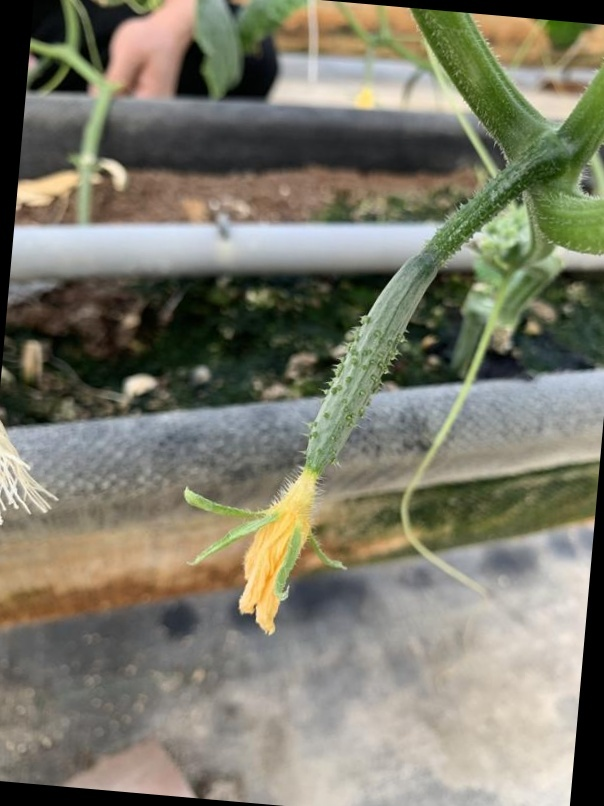bear: (178, 217, 469, 650)
